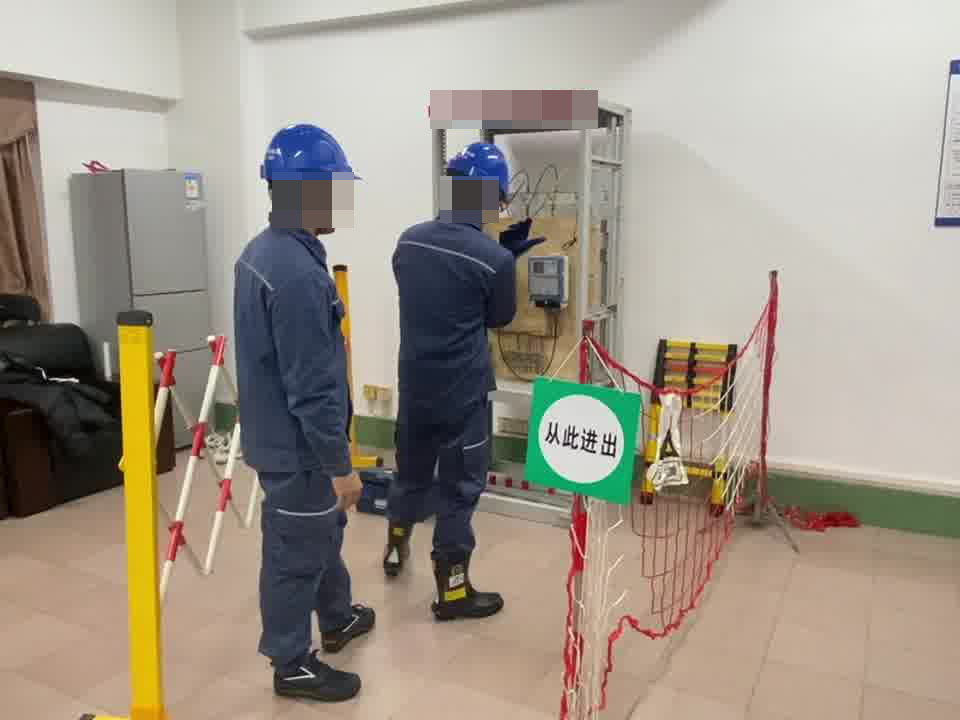downsuit: (389, 383, 493, 574), (257, 473, 353, 664)
glove: (497, 217, 541, 253)
halt: (260, 120, 360, 234), (444, 140, 514, 213)
hand: (334, 470, 362, 511)
inear: (304, 179, 334, 222), (476, 187, 494, 215)
intosign: (522, 377, 642, 497)
person: (229, 121, 377, 707), (376, 135, 534, 621)
shoe: (420, 549, 502, 617), (379, 521, 414, 569)
upsuit: (235, 229, 353, 465), (392, 212, 518, 377)
